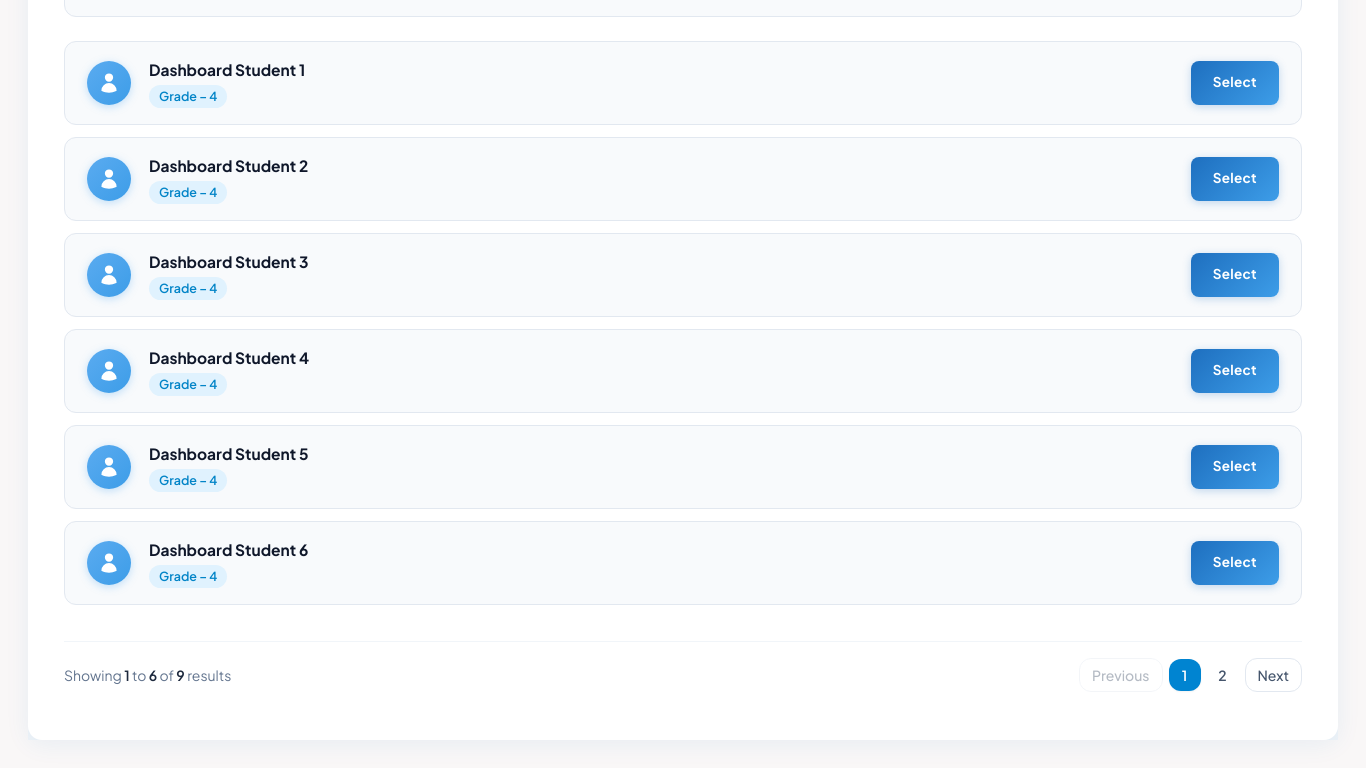
Test: ViewProgressDashboard › paginates student list when students exceed pageSize of 6
(page scrolled)
expect the text "Dashboard Student 1" is shown: met, box [149, 60, 305, 78]
expect the text "Dashboard Student 6" is shown: met, box [149, 540, 308, 558]
Click the button "Next" at (1273, 674), box [1244, 658, 1302, 692]
(page scrolled)
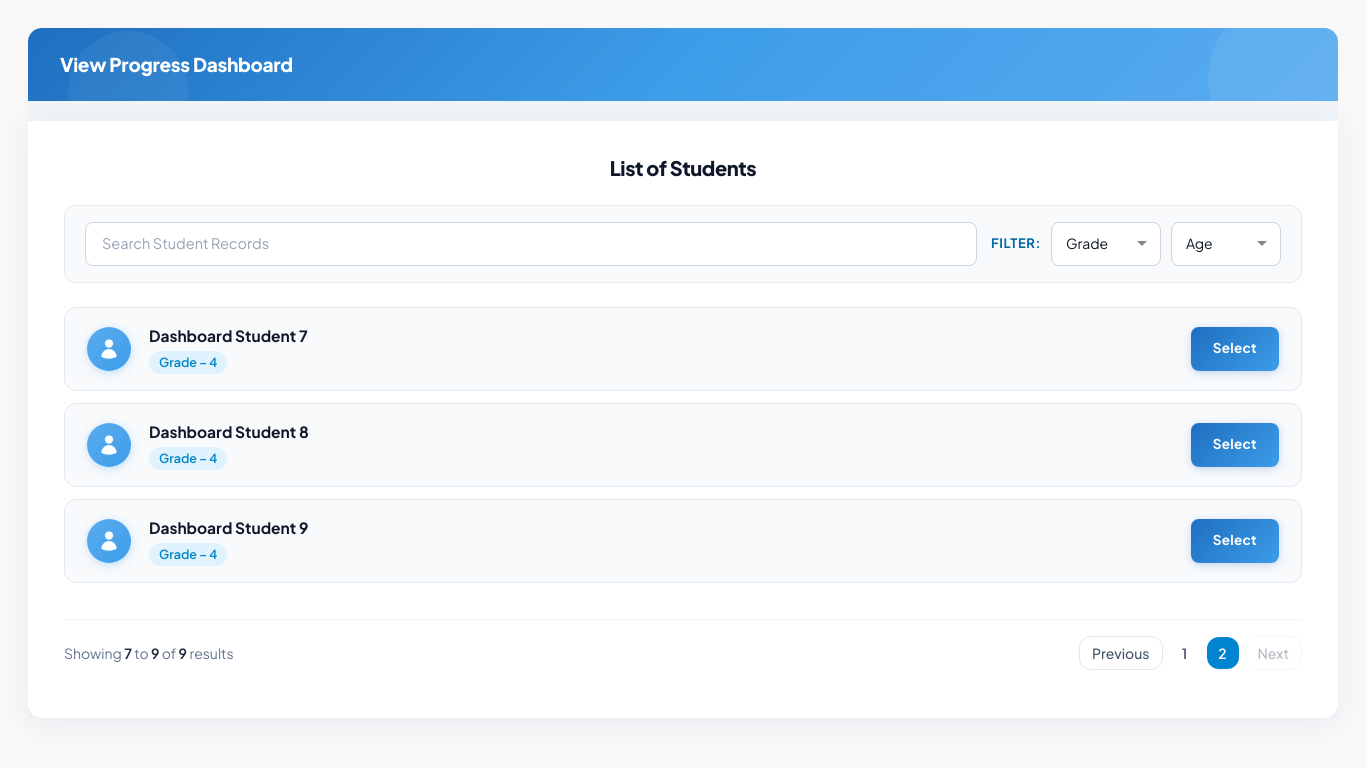
expect the text "Dashboard Student 7" is shown: met, box [149, 326, 308, 344]
expect the text "Dashboard Student 9" is shown: met, box [149, 518, 308, 536]
expect the text "Dashboard Student 1" is gone: met
